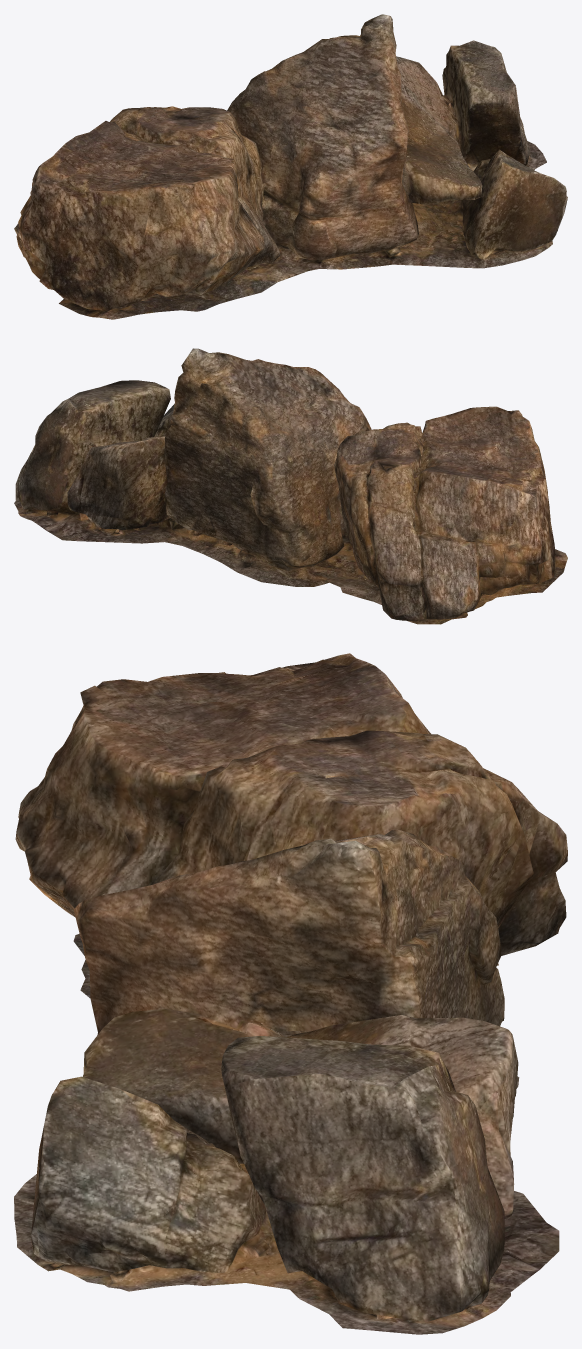
The model's file is namaqualand_boulder_02.glb.
3 renders of one model, top to bottom at view 1: azimuth 30°, elevation 25°; view 2: azimuth 150°, elevation 25°; view 3: azimuth 270°, elevation 25°, orthographic. The views are drawn at different scales.
Visible parts, largest first — view 1: boulder_02; view 2: boulder_02; view 3: boulder_02.
Boxes of the visible parts, box(x1,y1,x2,y2) form: boulder_02: box(14, 14, 567, 319); boulder_02: box(14, 348, 567, 624); boulder_02: box(14, 653, 567, 1334).
Size of the model in its own units: 2.52 by 0.8803 by 1.23.
1 material, 1 textured.
